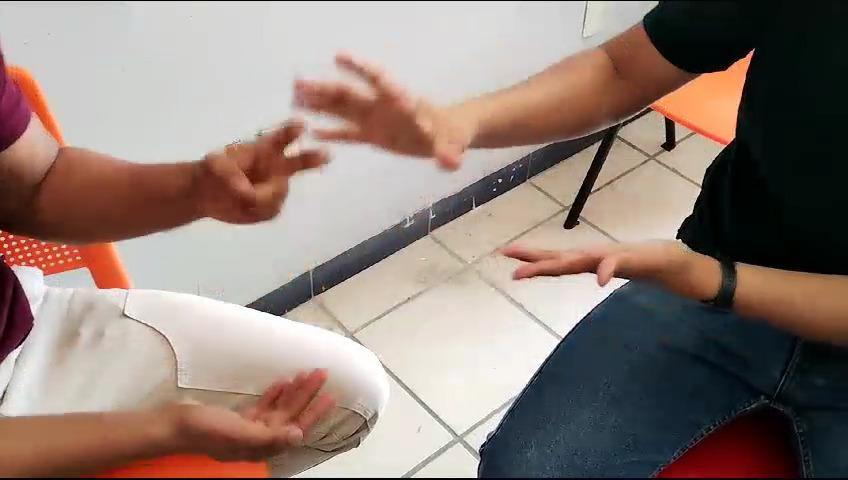Paper: (278, 31, 512, 183), (491, 221, 705, 307)
Scissor: (185, 112, 335, 231)
